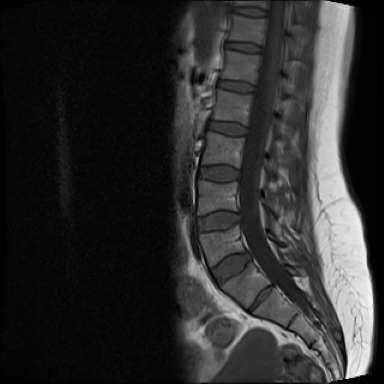Normal IVD: (204, 244, 255, 292), (191, 204, 244, 237), (195, 157, 244, 186), (202, 113, 251, 139), (221, 34, 266, 55), (217, 74, 258, 96), (228, 3, 270, 18)
